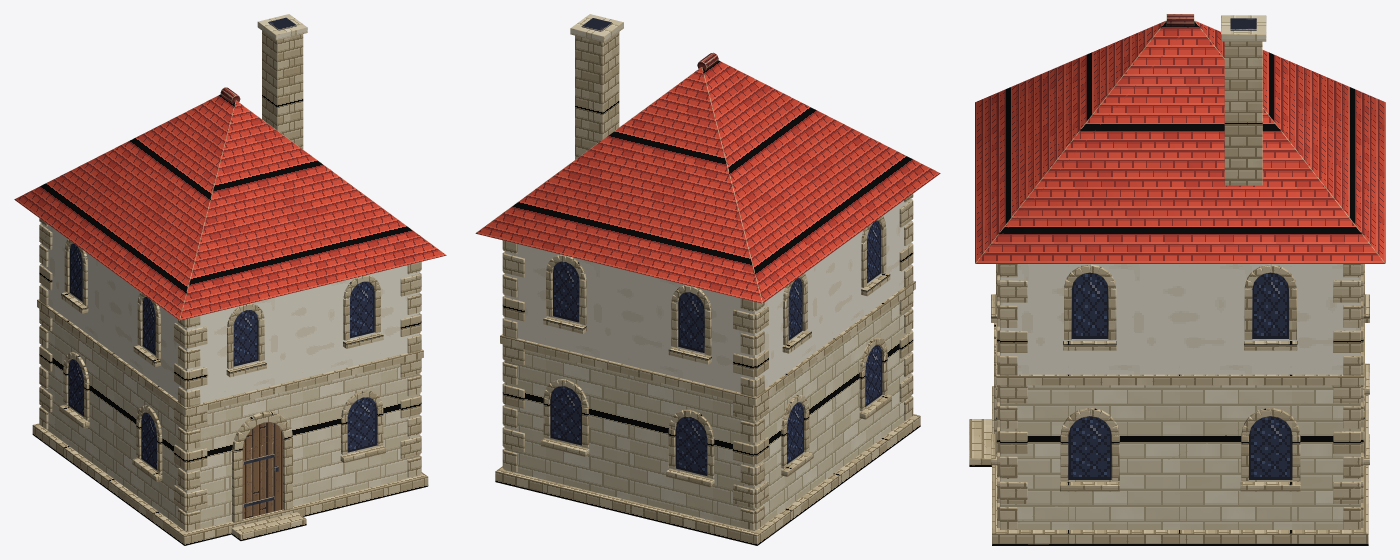
The model's file is medieval_house_3.glb.
3 renders of one model, left to right at view 1: azimuth 30°, elevation 25°; view 2: azimuth 150°, elevation 25°; view 3: azimuth 270°, elevation 25°, orthographic. The views are drawn at different scales.
Parts seen in each view (by area): view 1: medieval_house_4; view 2: medieval_house_4; view 3: medieval_house_4.
Part boxes in pixels (left/top/right/bottom): medieval_house_4: left=14, top=14, right=446, bottom=545; medieval_house_4: left=475, top=14, right=940, bottom=545; medieval_house_4: left=969, top=14, right=1385, bottom=545.
Size of the model in its own units: 6.89 by 9.84 by 7.49.
Materials: 10 (10 with a texture image).
